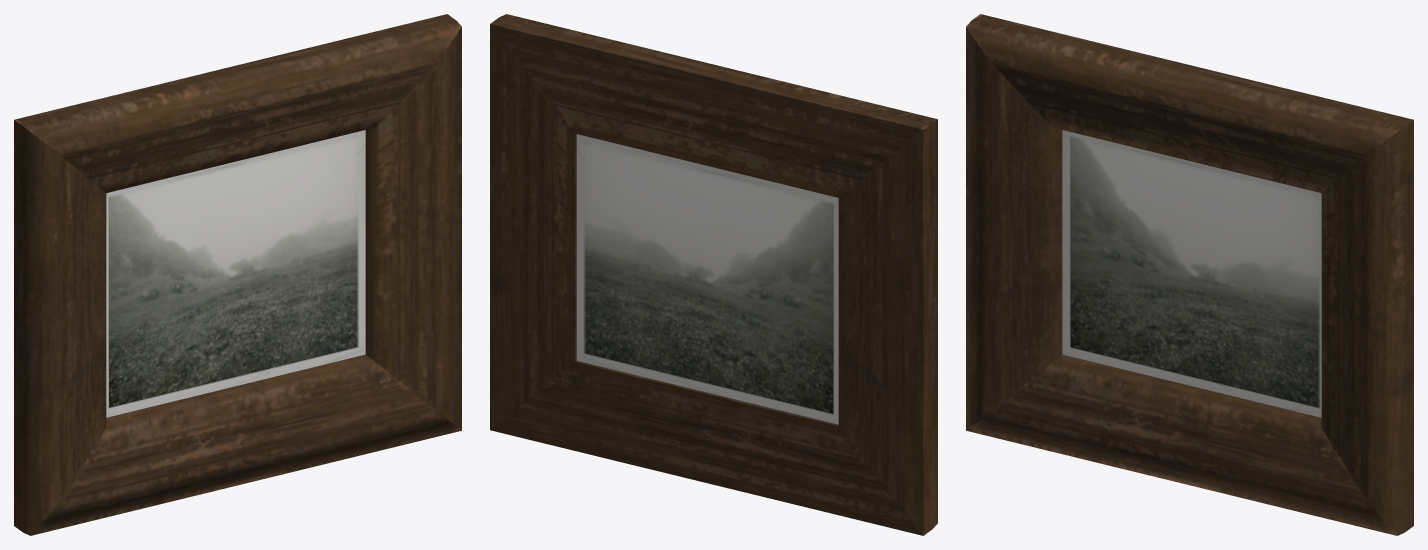
Rendered from Picture_14_Small_Framed.FBX.
3 views of the same model, side by side, from view 1: azimuth 30°, elevation 25°; view 2: azimuth 150°, elevation 25°; view 3: azimuth 330°, elevation 25° (orthographic).
Parts seen in each view (by area): view 1: Picture_14_Small_Framed; view 2: Picture_14_Small_Framed; view 3: Picture_14_Small_Framed.
Boxes of the visible parts, x1=… form: Picture_14_Small_Framed: x1=14, y1=14, x2=461, y2=535; Picture_14_Small_Framed: x1=490, y1=14, x2=937, y2=535; Picture_14_Small_Framed: x1=966, y1=14, x2=1413, y2=535.
Bounding box in the file's own units: 44.64 × 39.98 × 3.18.
